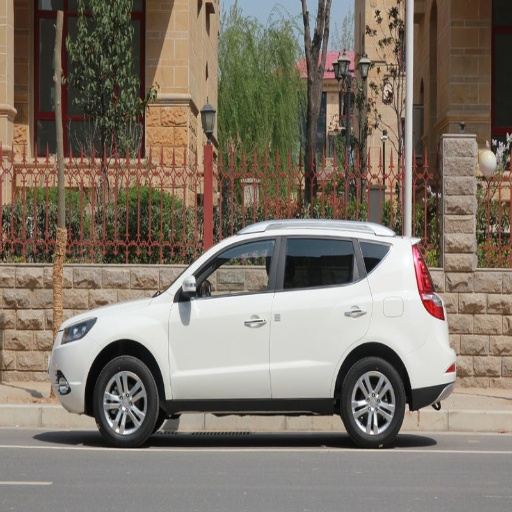back_left_door: (271, 232, 372, 398)
front_left_door: (169, 233, 278, 396)
